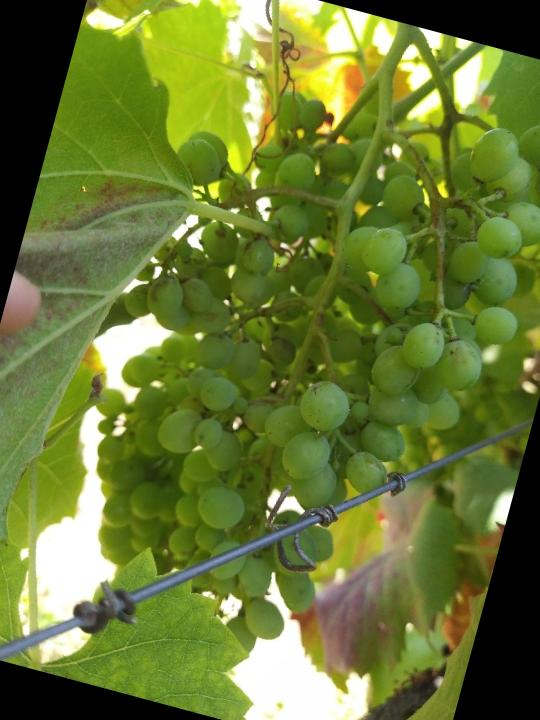grape: (43, 30, 540, 706)
